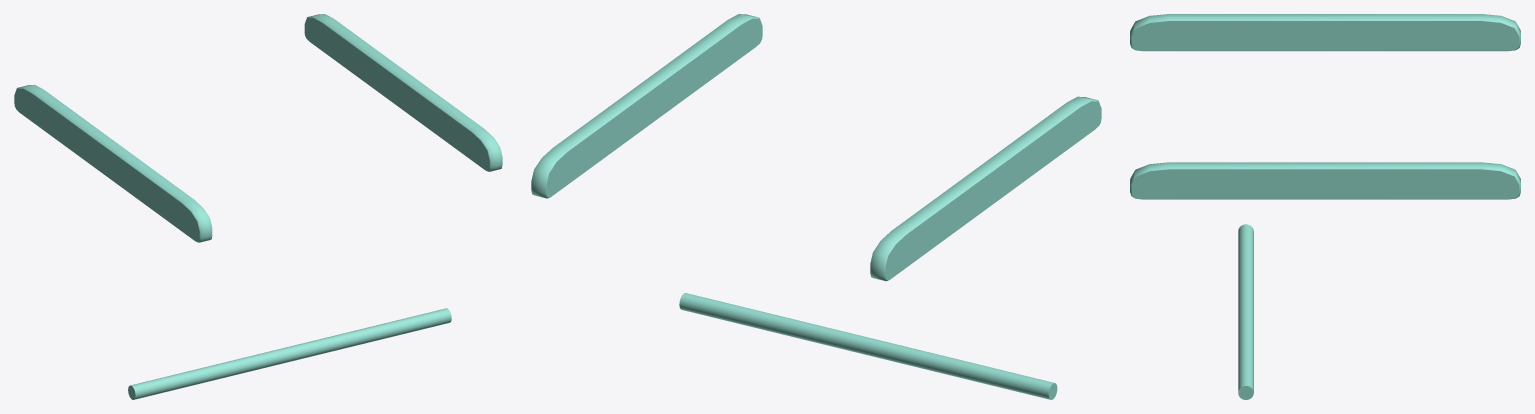
Rendered from con1.obj.
3 renders of one model, left to right at view 1: azimuth 30°, elevation 25°; view 2: azimuth 150°, elevation 25°; view 3: azimuth 270°, elevation 25°, orthographic. The views are drawn at different scales.
Parts seen in each view (by area): view 1: Object; view 2: Object; view 3: Object.
Boxes of the visible parts, left/top/right/bottom form: Object: left=14, top=14, right=502, bottom=399; Object: left=531, top=14, right=1101, bottom=399; Object: left=1130, top=14, right=1520, bottom=399.
Size of the model in its own units: 15.37 by 10.27 by 15.71.
